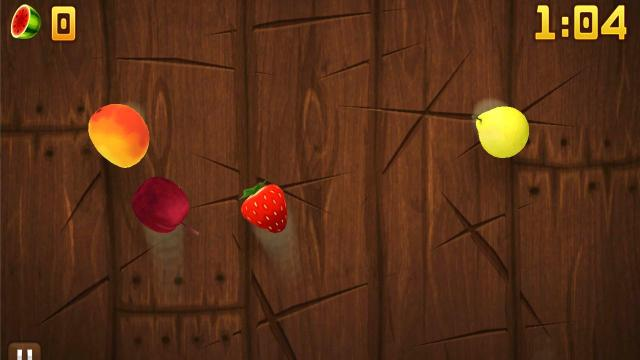fruit: (131, 175, 201, 237), (88, 103, 150, 169), (476, 104, 530, 158), (238, 179, 288, 232)
ignore: (10, 2, 42, 40)
